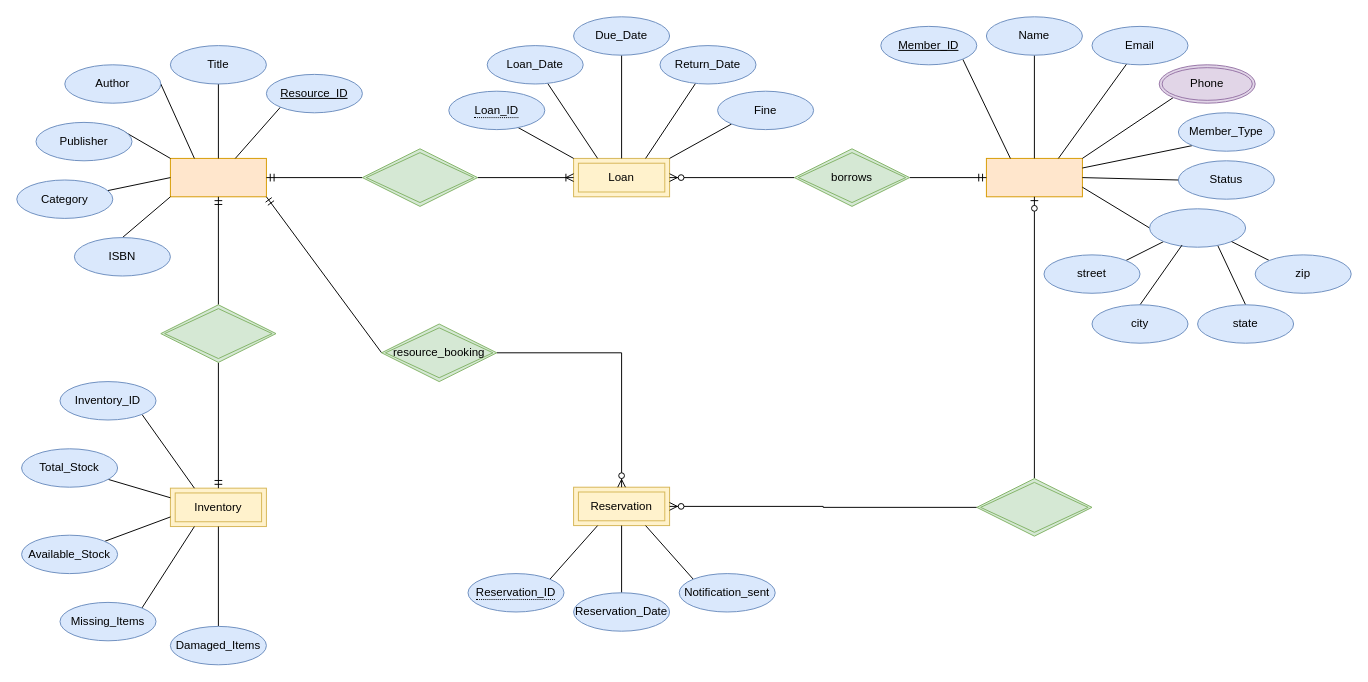
The diagram is 1368 pixels wide and 682 high, and some of its shapes have lost their labels. The centre of each missing label's shape, as x and y in pixels:
Address: [1197,227]
lent: [419,177]
Member: [1033,177]
reserves: [1034,507]
Resource: [217,177]
tracks: [218,333]
